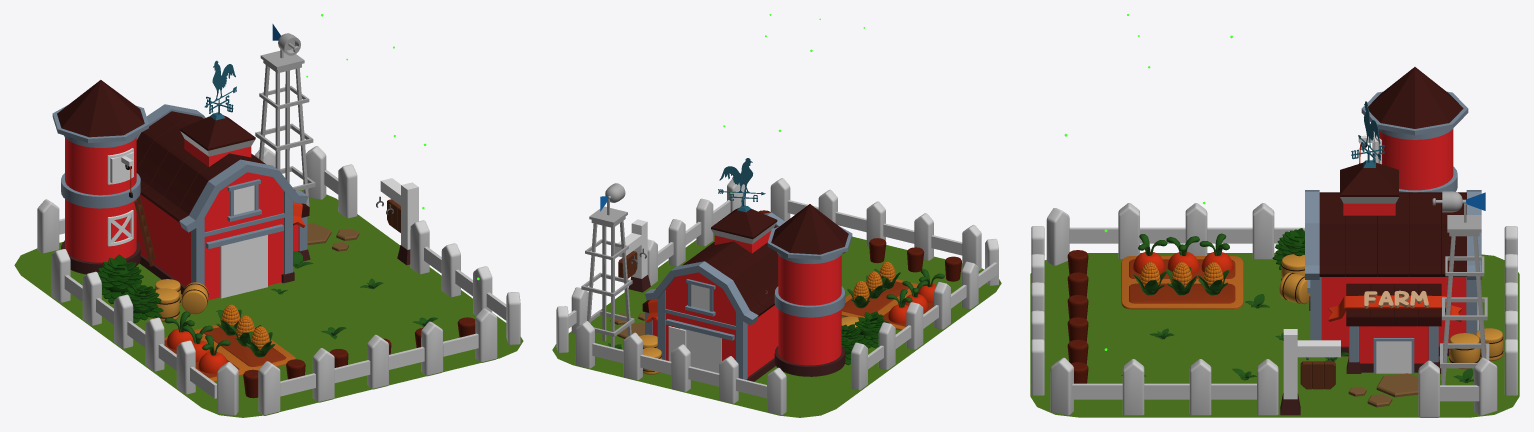
File: simulation.fbx
3 renders of one model, left to right at view 1: azimuth 30°, elevation 25°; view 2: azimuth 150°, elevation 25°; view 3: azimuth 270°, elevation 25°, orthographic. The views are drawn at different scales.
Parts seen in each view (by area): view 1: Genre.004, Cube, Cube.021, Cube.514, Cube.129, Cube.131, Cube.133, Plane.013, Cylinder.006, Cube.014, bool_cube.097, Cube.154 (+23 smaller); view 2: Genre.004, Cube, Cube.153, Cube.021, Plane.013, Cube.131, Cube.514, Cube.129, Cube.133, Cylinder.006, Cube.154, Cube.014 (+20 smaller); view 3: Genre.004, Cube.514, Cube.133, Plane.013, Cube, Cylinder.006, Cube.131, Cube.021, Cube.154, Cube.513, Bottle.003, Cube.132 (+26 smaller).
Part boxes in pixels (left/top/right/bottom): Genre.004: left=14, top=189, right=523, bottom=417; Cube: left=61, top=134, right=140, bottom=274; Cube.021: left=136, top=172, right=283, bottom=300; Cube.514: left=136, top=111, right=295, bottom=222; Cube.129: left=258, top=308, right=497, bottom=415; Cube.131: left=51, top=249, right=195, bottom=394; Cube.133: left=217, top=220, right=520, bottom=415; Plane.013: left=255, top=24, right=315, bottom=216; Cylinder.006: left=57, top=80, right=144, bottom=137; Cube.014: left=136, top=104, right=308, bottom=232; bool_cube.097: left=220, top=235, right=267, bottom=298; Cube.154: left=180, top=115, right=255, bottom=166; Genre.004: left=552, top=233, right=1001, bottom=417; Cube: left=774, top=252, right=845, bottom=376; Cube.153: left=575, top=321, right=786, bottom=415; Cube.021: left=665, top=272, right=778, bottom=376; Plane.013: left=579, top=183, right=634, bottom=360; Cube.131: left=851, top=261, right=978, bottom=390; Cube.514: left=656, top=225, right=778, bottom=316; Cube.129: left=770, top=178, right=981, bottom=270; Cube.133: left=647, top=178, right=998, bottom=285; Cylinder.006: left=771, top=204, right=848, bottom=254; Cube.154: left=711, top=208, right=777, bottom=253; Cube.014: left=645, top=212, right=785, bottom=325; Genre.004: left=1030, top=253, right=1519, bottom=417; Cube.514: left=1319, top=192, right=1466, bottom=276; Cube.133: left=1046, top=208, right=1278, bottom=415; Plane.013: left=1432, top=191, right=1489, bottom=385; Cube: left=1378, top=128, right=1457, bottom=192; Cylinder.006: left=1368, top=67, right=1463, bottom=128; Cube.131: left=1118, top=203, right=1274, bottom=259; Cube.021: left=1321, top=277, right=1466, bottom=346; Cube.154: left=1340, top=162, right=1398, bottom=215; Cube.513: left=1346, top=283, right=1441, bottom=326; Bottle.003: left=1067, top=250, right=1088, bottom=383; Cube.132: left=1071, top=383, right=1256, bottom=399.
Bounding box in the file's own units: 924 × 1160 × 870.
